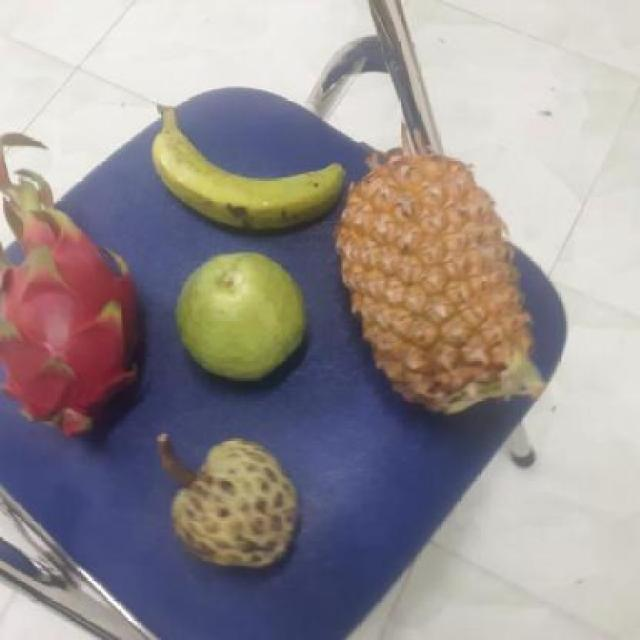banana: (156, 115, 356, 232)
dragon fruit: (0, 211, 155, 437)
guava: (176, 252, 313, 382)
pineapple: (340, 155, 532, 417)
sugar apple: (168, 439, 306, 570)
